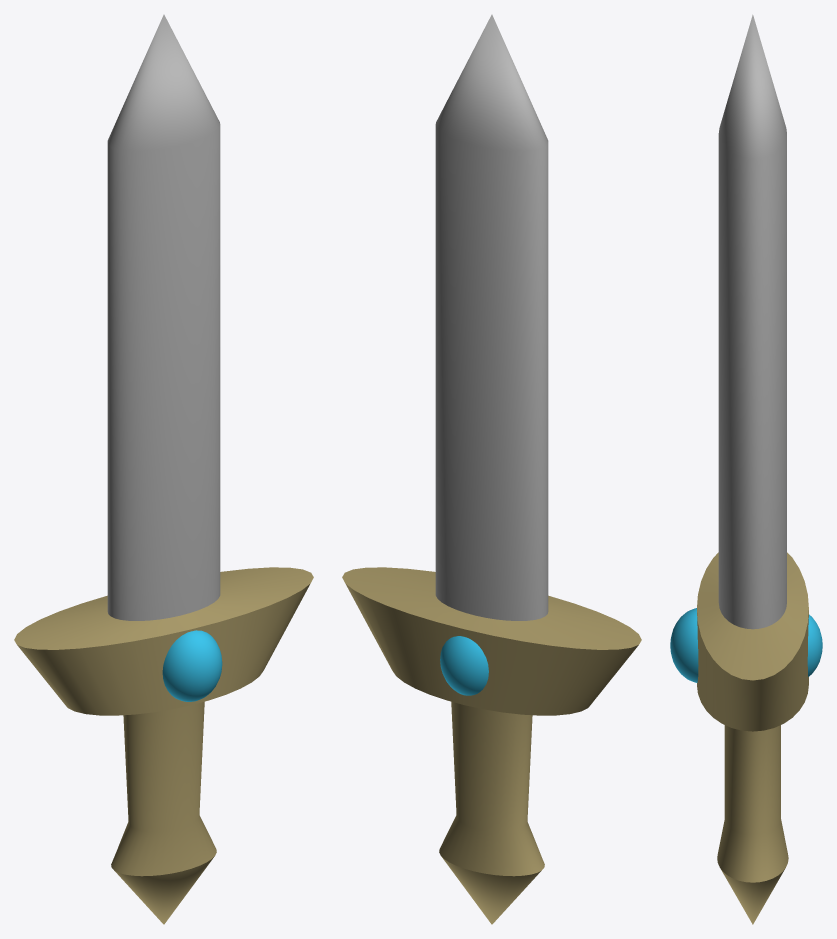
File: Sword.fbx
The picture shows the model from 3 angles, left to right: view 1: azimuth 30°, elevation 25°; view 2: azimuth 150°, elevation 25°; view 3: azimuth 270°, elevation 25°; orthographic projection.
Visible parts, largest first — view 1: Cylinder; view 2: Cylinder; view 3: Cylinder.
Boxes of the visible parts, left/top/right/bottom form: Cylinder: left=14, top=14, right=313, bottom=924; Cylinder: left=342, top=14, right=641, bottom=924; Cylinder: left=670, top=14, right=822, bottom=924.
Bounding box in the file's own units: 1.42 × 4.2 × 0.6381.
